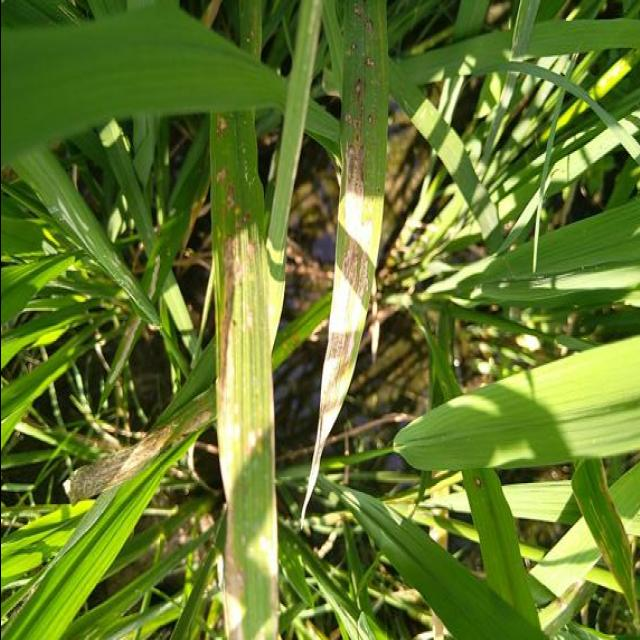Leaf Streak: (301, 78, 376, 519), (210, 166, 252, 640), (62, 426, 170, 507), (264, 290, 276, 640), (180, 411, 209, 435), (209, 114, 227, 148), (343, 0, 364, 22), (247, 429, 258, 452), (363, 58, 374, 67), (364, 19, 371, 31), (367, 115, 373, 124), (350, 42, 356, 49)
